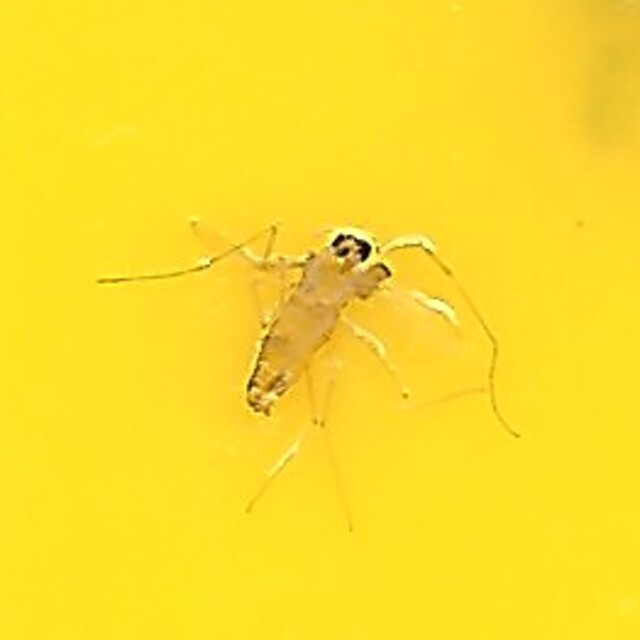Nematocera: (244, 230, 396, 410)
